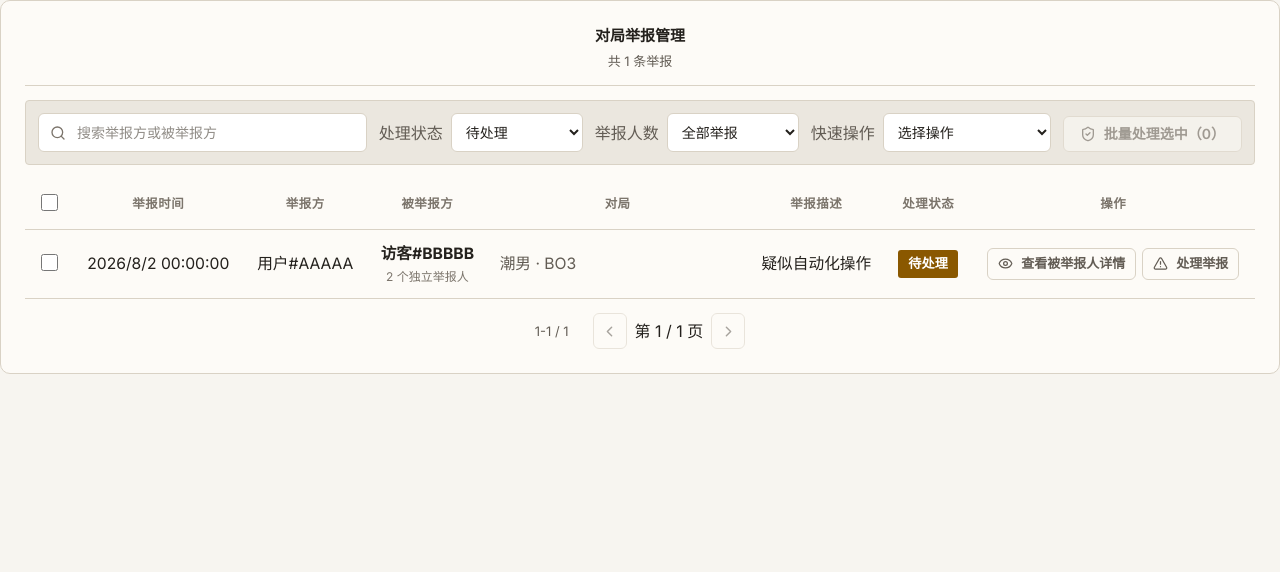
Scenario: AdminReports › runs external analysis only after the admin requests it
The image size is (1280, 572).
Check: the text "疑似自动化操作" is shown, box [748, 229, 885, 299]
Click the button "处理举报" at (1191, 264), box [1142, 248, 1239, 280]
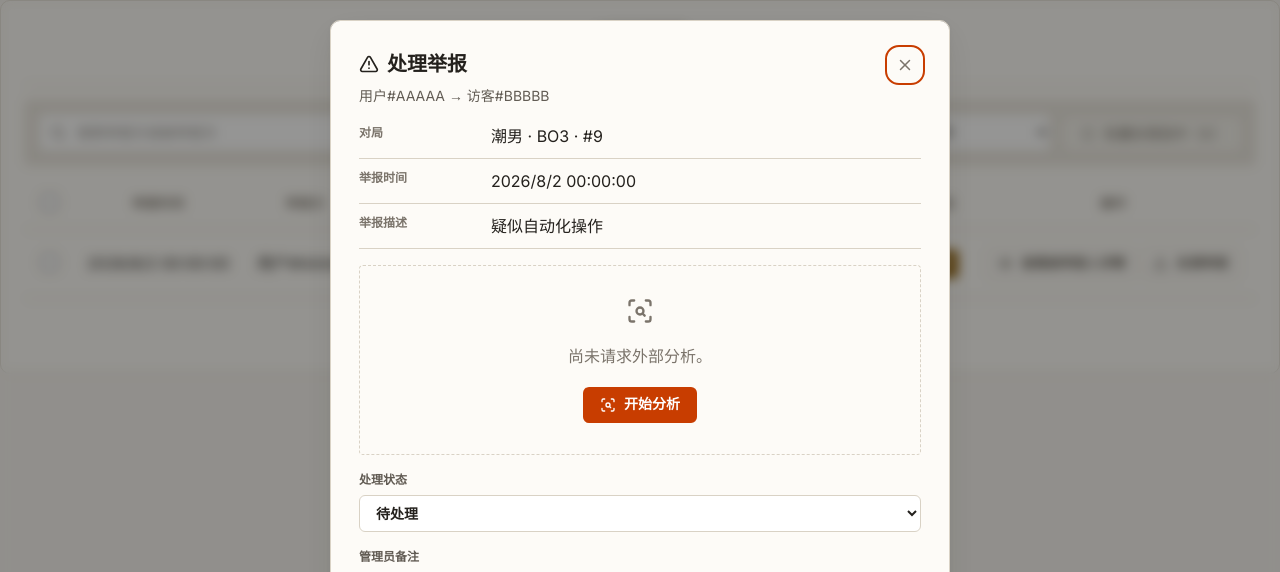
Check: the text "尚未请求外部分析。" is shown, box [568, 344, 712, 368]
Click the button "开始分析" at (640, 405), box [583, 387, 697, 423]
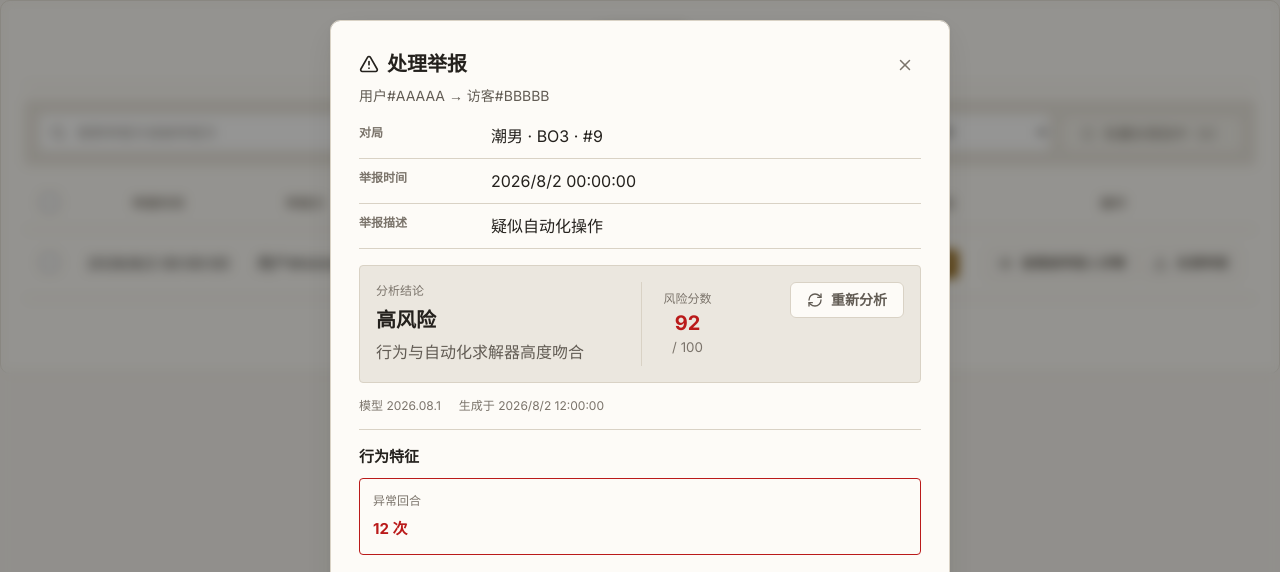
Check: the text "高风险" is shown, box [376, 308, 436, 332]
Check: the text "92" is shown, box [675, 313, 700, 333]
Check: the text "12 次" is shown, box [373, 520, 408, 538]
